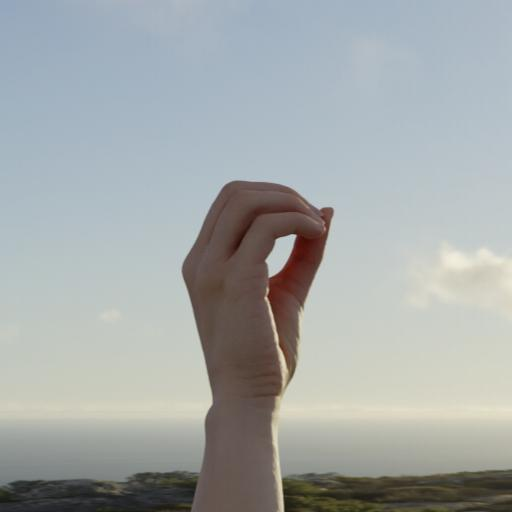O: (173, 174, 335, 398)
